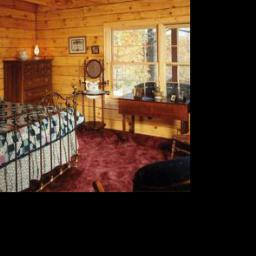Armario: (7, 61, 51, 98)
